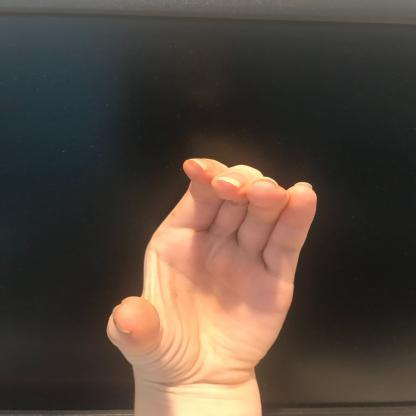C: (101, 154, 322, 391)
